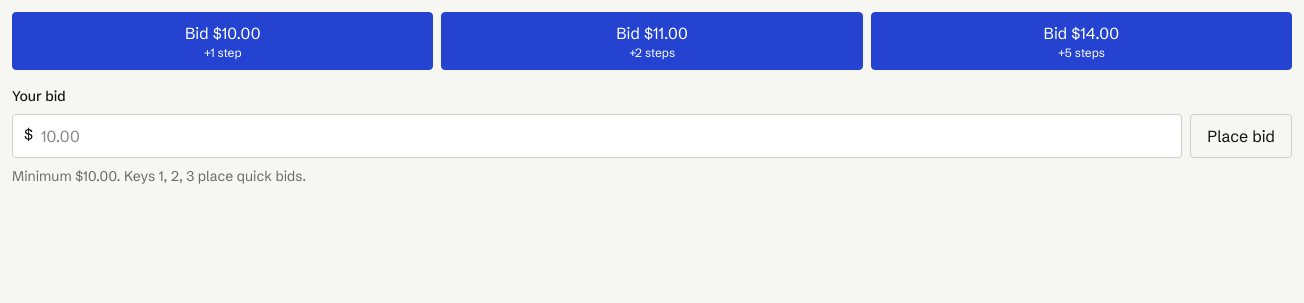
TC-190: DEMO_READONLY renders its exact PRD copy
Click the button "Bid $10.00 +1 step".
click(223, 41)  # box [12,12,433,70]
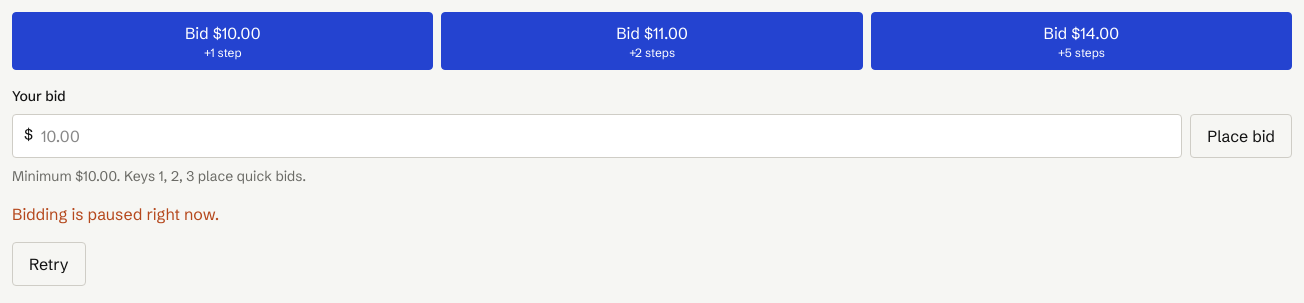
expect the message reads "Bidding is paused right now.": met, box [12,204,219,224]
